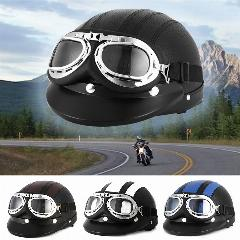with_helmet: (48, 5, 204, 117), (86, 180, 159, 236), (163, 181, 236, 237), (7, 181, 79, 236)
